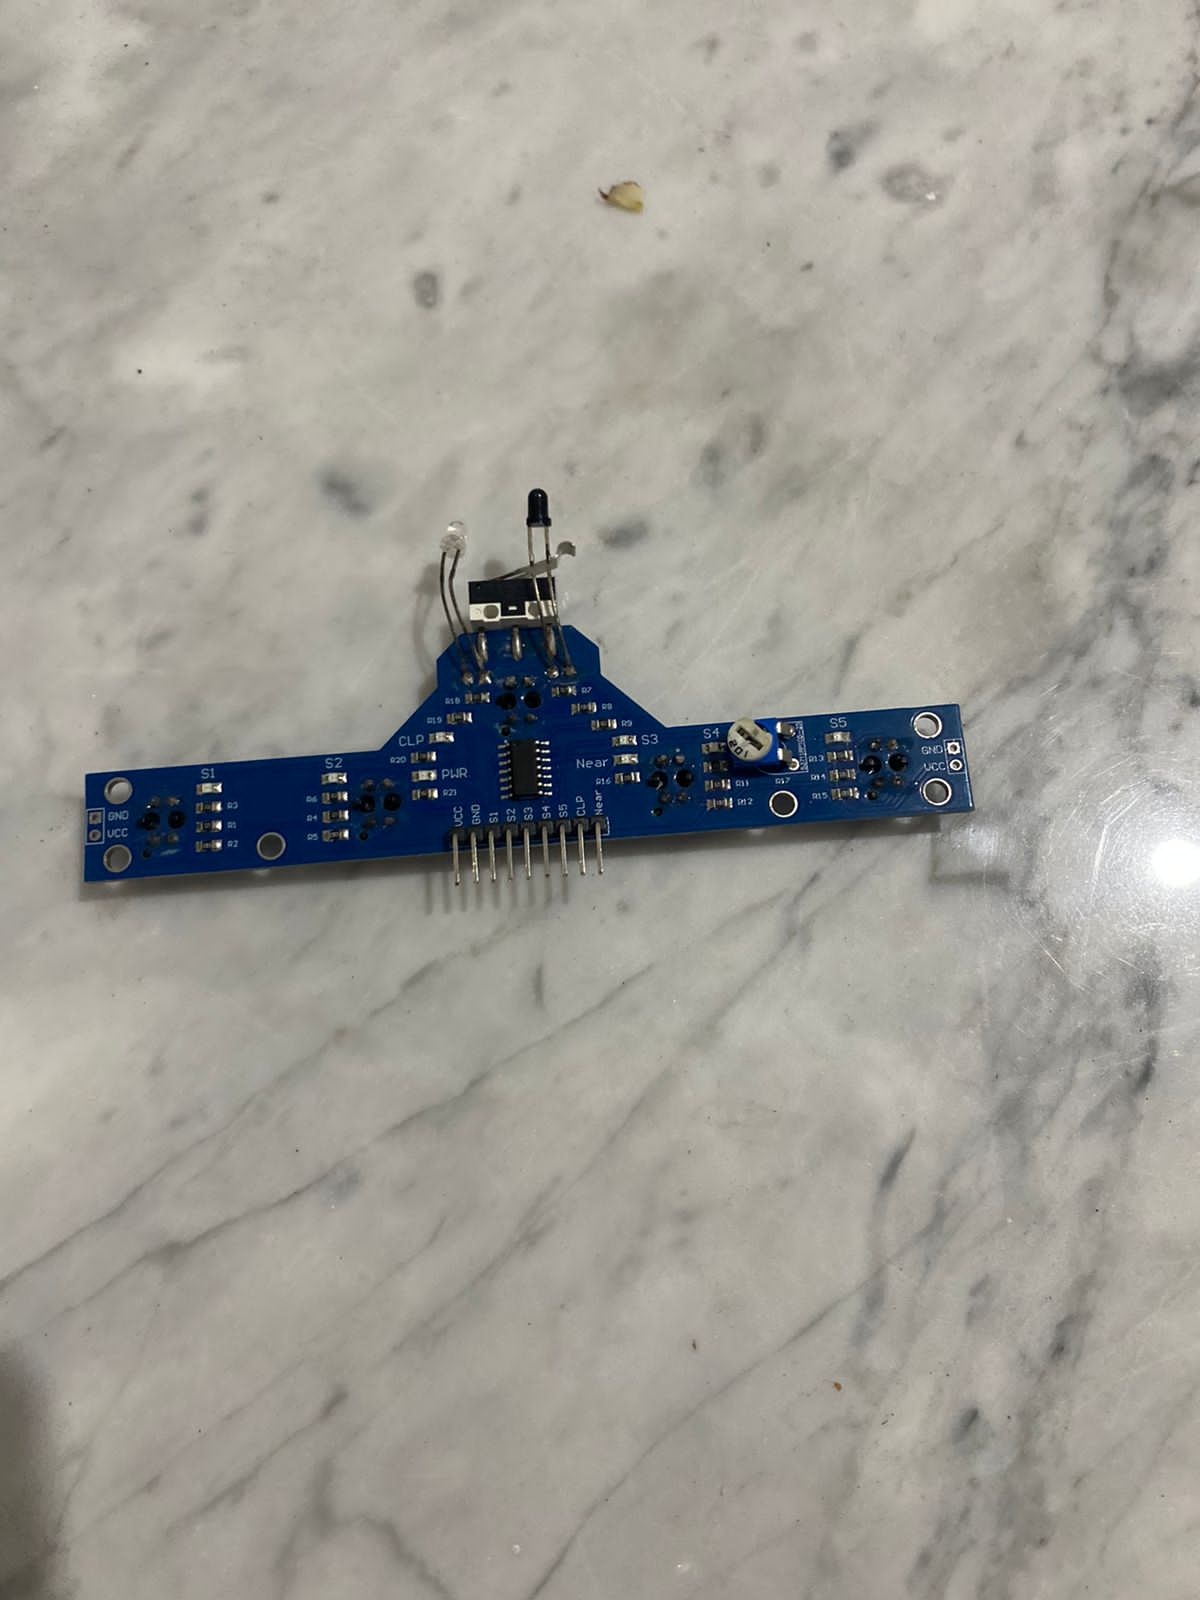Capteur-IR-5 Voies: (76, 480, 981, 905)
